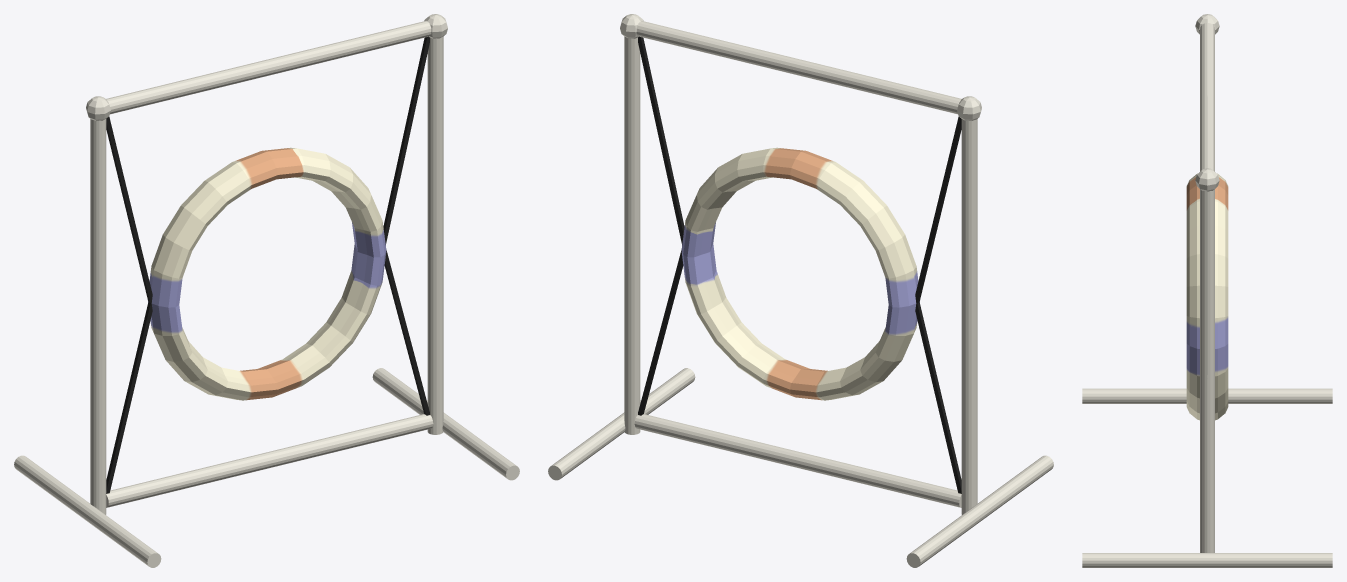
The model's file is MFC tire jump.fbx.
The picture shows the model from 3 angles, left to right: view 1: azimuth 30°, elevation 25°; view 2: azimuth 150°, elevation 25°; view 3: azimuth 270°, elevation 25°; orthographic projection. The views are drawn at different scales.
Visible parts, largest first — view 1: Torus, Cylinder, Cylinder.002, Cylinder.001, Cylinder.003, Cube, Sphere; view 2: Torus, Cylinder, Cylinder.002, Cylinder.001, Cylinder.003, Cube, Sphere; view 3: Cylinder.003, Torus, Cylinder, Cylinder.001, Sphere.
Boxes of the visible parts, box(x1,y1,x2,y2) form: Torus: box(148, 147, 386, 400); Cylinder: box(90, 36, 443, 514); Cylinder.002: box(106, 414, 433, 507); Cylinder.001: box(106, 21, 431, 114); Cylinder.003: box(14, 368, 519, 567); Cube: box(106, 36, 429, 493); Sphere: box(86, 14, 447, 120); Torus: box(681, 147, 919, 400); Cylinder: box(624, 36, 977, 514); Cylinder.002: box(634, 414, 961, 507); Cylinder.001: box(636, 21, 961, 114); Cylinder.003: box(548, 368, 1053, 567); Cube: box(638, 36, 961, 493); Sphere: box(620, 14, 981, 120); Cylinder.003: box(1082, 388, 1332, 567); Torus: box(1186, 173, 1228, 420); Cylinder: box(1200, 189, 1214, 552); Cylinder.001: box(1200, 23, 1214, 171); Sphere: box(1195, 14, 1219, 191).
Bounding box in the file's own units: 444 × 477 × 275.
